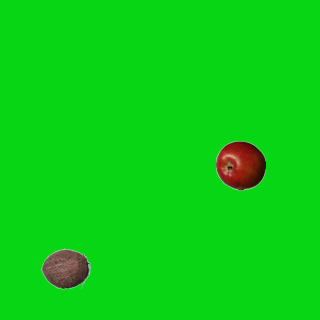Apple Braeburn: (215, 140, 265, 190)
Cocos: (40, 243, 90, 293)
